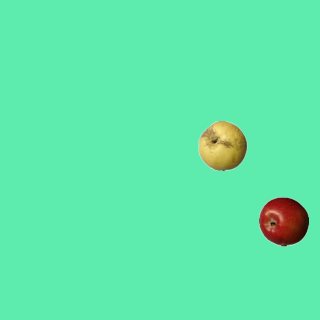Apple Braeburn: (258, 196, 308, 246)
Apple Golden 1: (197, 120, 247, 170)
